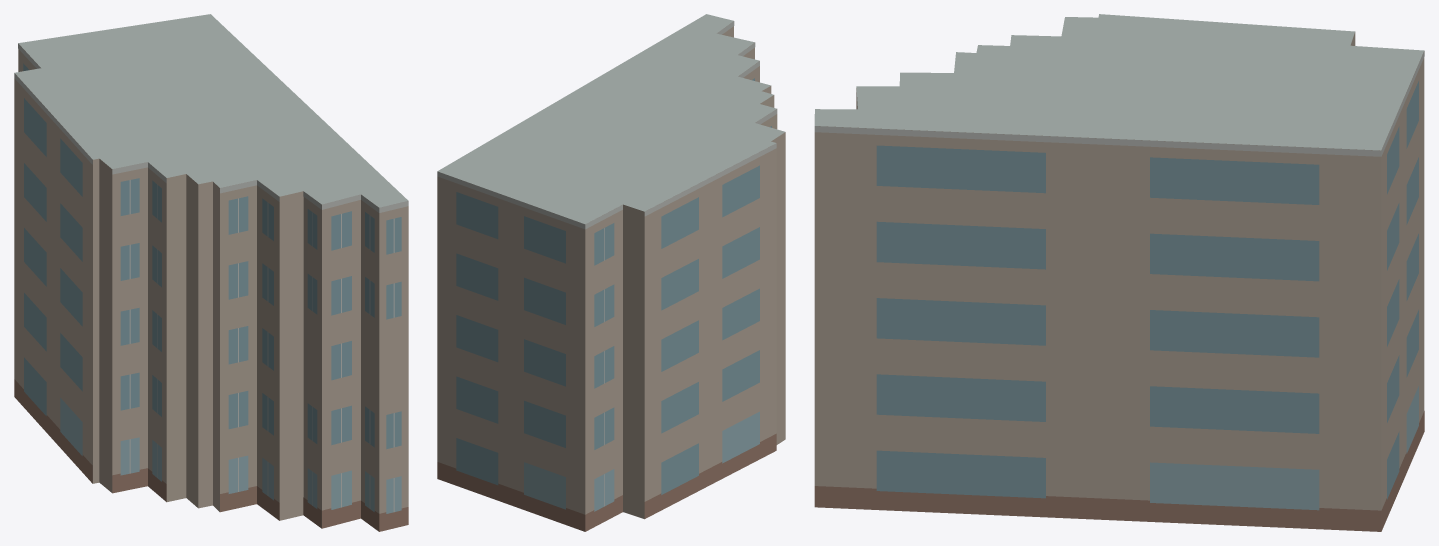
Rendered from survey-upis-32659652.glb.
The picture shows the model from 3 angles, left to right: view 1: azimuth 30°, elevation 25°; view 2: azimuth 150°, elevation 25°; view 3: azimuth 270°, elevation 25°; orthographic projection. The views are drawn at different scales.
Visible parts, largest first — view 1: survey-upis-32659652.tmp; view 2: survey-upis-32659652.tmp; view 3: survey-upis-32659652.tmp.
Part boxes in pixels (x1,y1,x2,y2): survey-upis-32659652.tmp: (14,14,408,531); survey-upis-32659652.tmp: (437,14,785,531); survey-upis-32659652.tmp: (814,14,1424,531).
Bounding box in the file's own units: 11.29 × 14.7 × 21.31.
